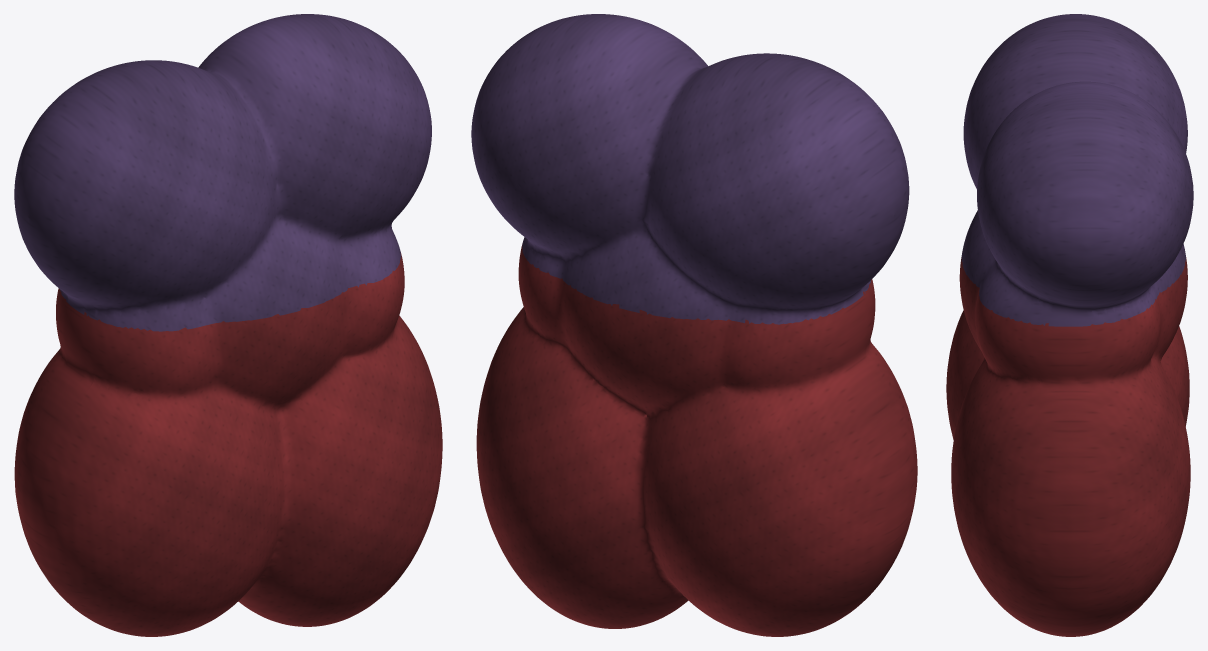
Rendered from HeartPartition_02_Weeks05-06_CushionFusion_Full.glb.
3 renders of one model, left to right at view 1: azimuth 30°, elevation 25°; view 2: azimuth 150°, elevation 25°; view 3: azimuth 270°, elevation 25°, orthographic. The views are drawn at different scales.
Parts seen in each view (by area): view 1: VentricularWall_Anterior, AtrialWall_Anterior, AtrialWall_Posterior, VentricularWall_Posterior; view 2: VentricularWall_Posterior, AtrialWall_Posterior, VentricularWall_Anterior, AtrialWall_Anterior; view 3: VentricularWall_Posterior, AtrialWall_Posterior, VentricularWall_Anterior, AtrialWall_Anterior.
Boxes of the visible parts, x1,y1,x2,y2 form: VentricularWall_Anterior: [51, 256, 442, 636]; AtrialWall_Anterior: [55, 51, 431, 333]; AtrialWall_Posterior: [14, 14, 429, 321]; VentricularWall_Posterior: [14, 288, 416, 633]; VentricularWall_Posterior: [476, 246, 912, 636]; AtrialWall_Posterior: [471, 14, 907, 327]; VentricularWall_Anterior: [867, 279, 917, 557]; AtrialWall_Anterior: [629, 17, 909, 290]; VentricularWall_Posterior: [1039, 259, 1190, 636]; AtrialWall_Posterior: [1039, 14, 1193, 329]; VentricularWall_Anterior: [946, 259, 1039, 630]; AtrialWall_Anterior: [961, 20, 1039, 327].
Bounding box in the file's own units: 0.1421 × 0.2013 × 0.0842.
Materials: 6 (6 with a texture image).
